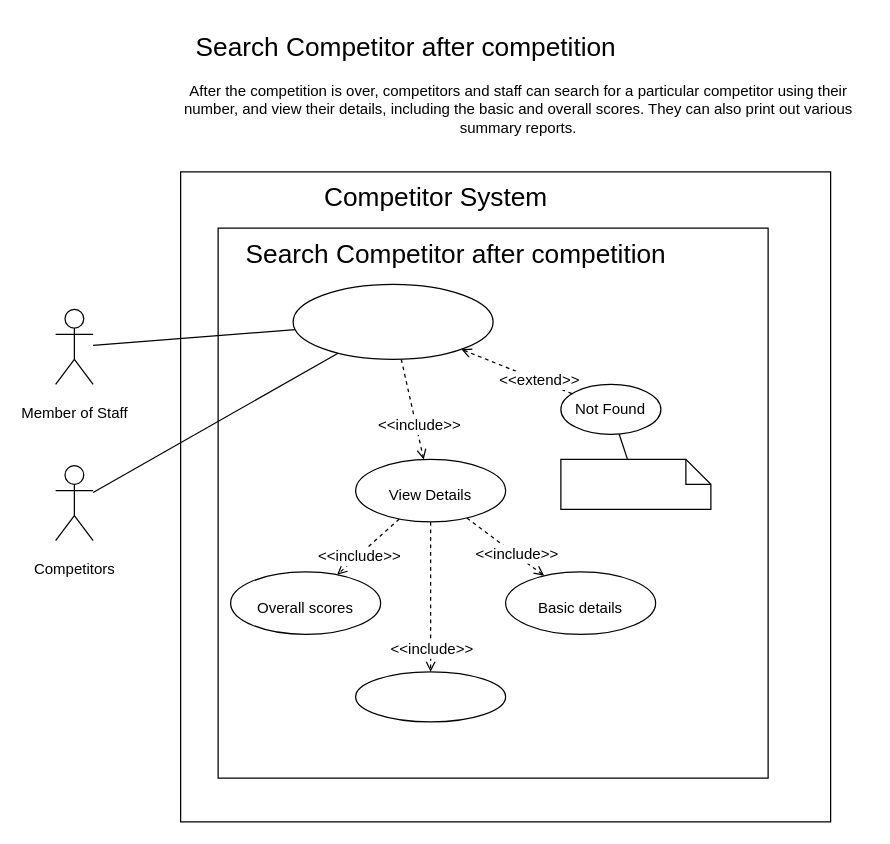
Some shapes in this 890 by 844 pixel diagram are drawn without their labels. Each missing label, with the box of its shape:
Condition: Competitor not found: (560, 458, 711, 509)
Print Summary report: (354, 671, 506, 722)
Search Competitor by number: (292, 283, 493, 359)
